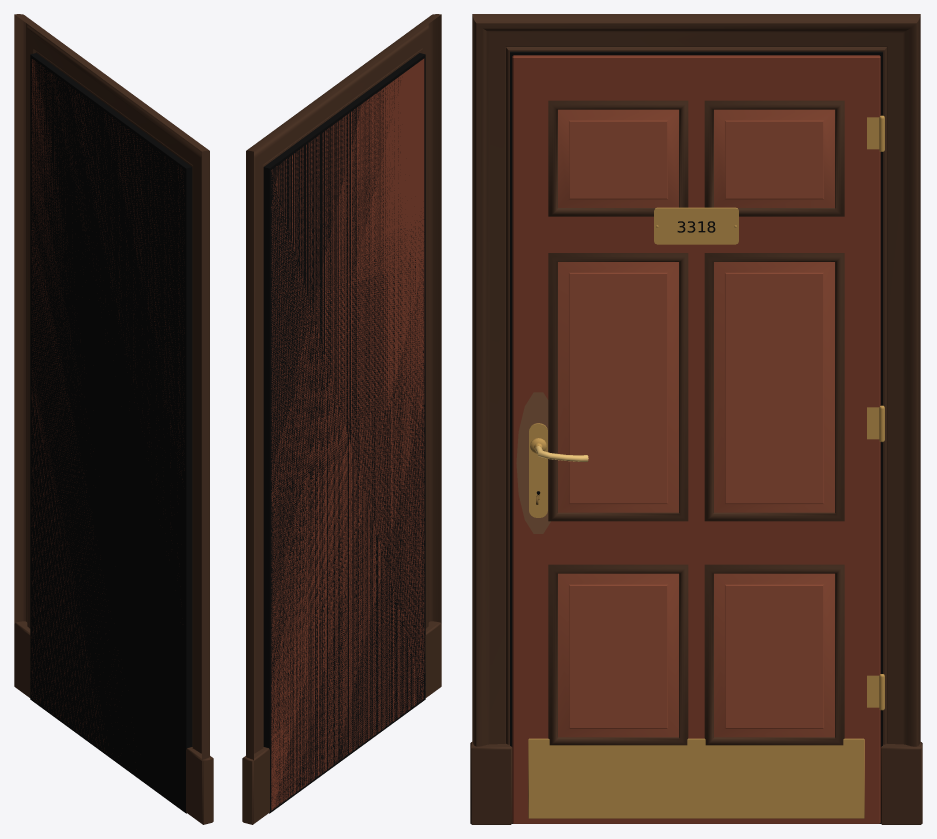
The model's file is hotel_door_b@3.glb.
3 views of the same model, side by side, from view 1: azimuth 30°, elevation 25°; view 2: azimuth 150°, elevation 25°; view 3: azimuth 270°, elevation 25° (orthographic). The views are drawn at different scales.
Parts seen in each view (by area): view 1: fuge, bekleidung, blatt; view 2: fuge, blatt, bekleidung; view 3: fuellungen, blatt, bekleidung, kehlleisten, beschlag, fuge, nummernschild, abrieb.
Part boxes in pixels (x1,y1,x2,y2): fuge: (30, 53, 192, 813); bekleidung: (14, 14, 213, 824); blatt: (31, 59, 184, 752); fuge: (263, 53, 425, 813); blatt: (271, 58, 424, 810); bekleidung: (242, 14, 441, 824); fuellungen: (558, 109, 834, 737); blatt: (512, 55, 880, 823); bekleidung: (470, 14, 922, 824); kehlleisten: (548, 100, 844, 745); beschlag: (528, 115, 884, 818); fuge: (510, 51, 882, 823); nummernschild: (654, 207, 738, 244); abrieb: (516, 392, 550, 533).
Bounding box in the file's own units: 0.1118 × 2.22 × 1.13.
